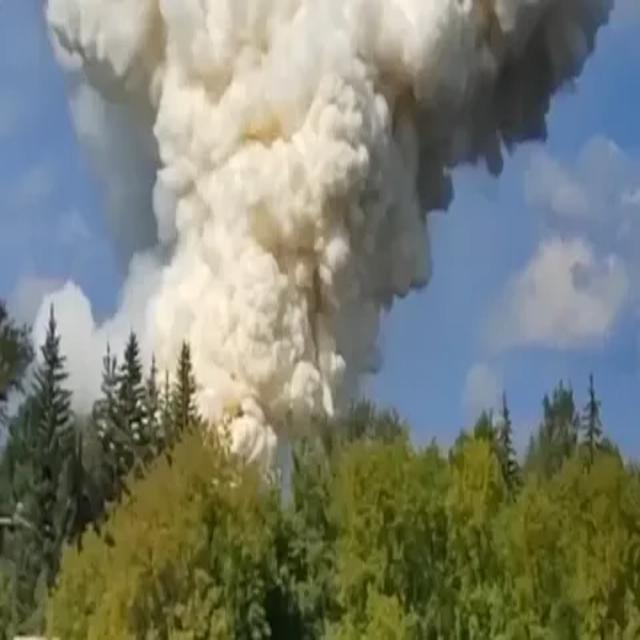Smoke: (38, 0, 619, 445)
